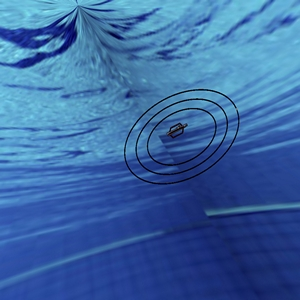circle: (123, 77, 247, 192)
submarine: (164, 117, 190, 149)
